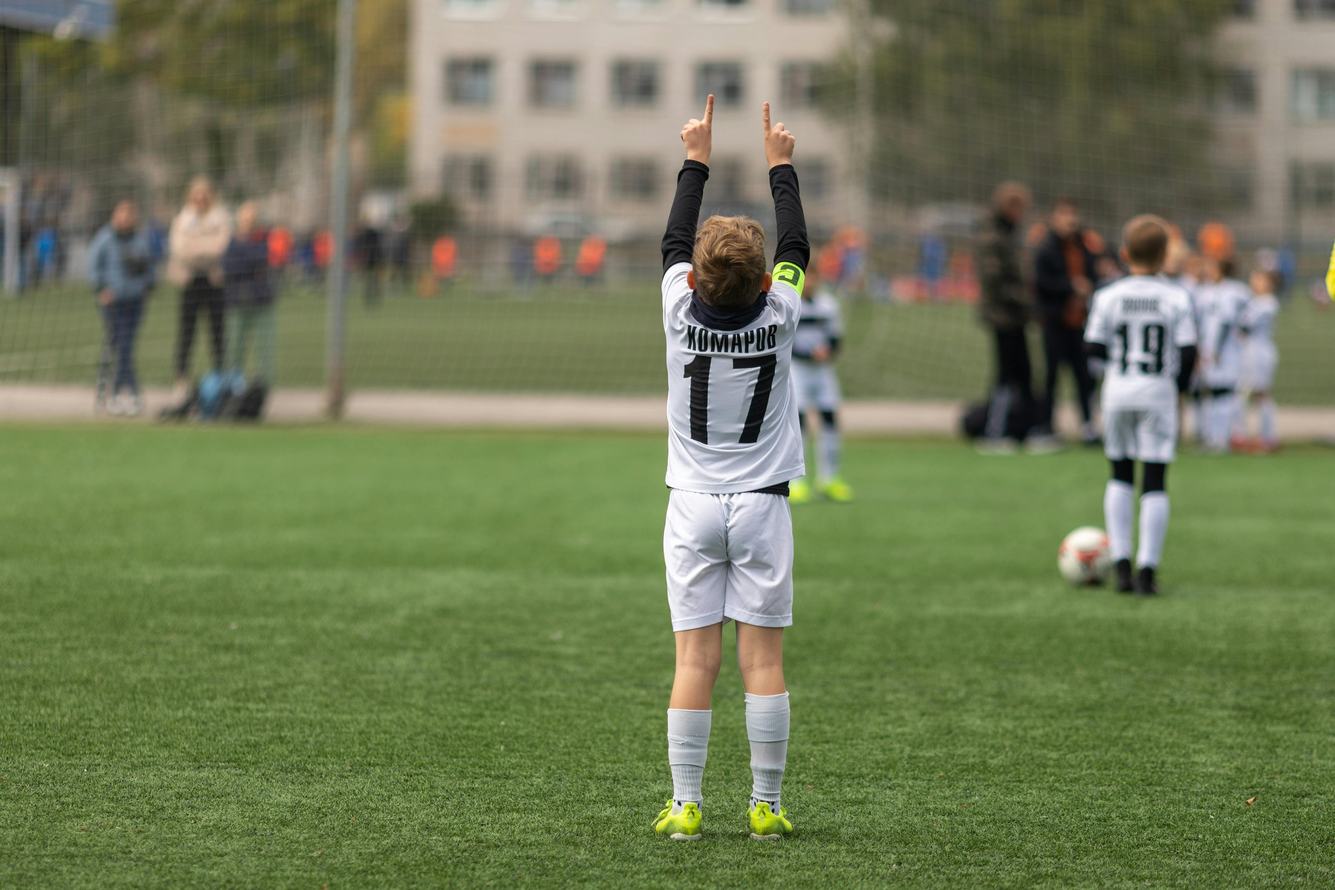Human: (642, 123, 860, 890), (1083, 223, 1193, 618)
